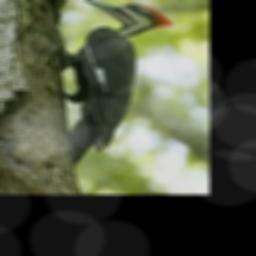Woodpecker: (59, 0, 176, 166)
